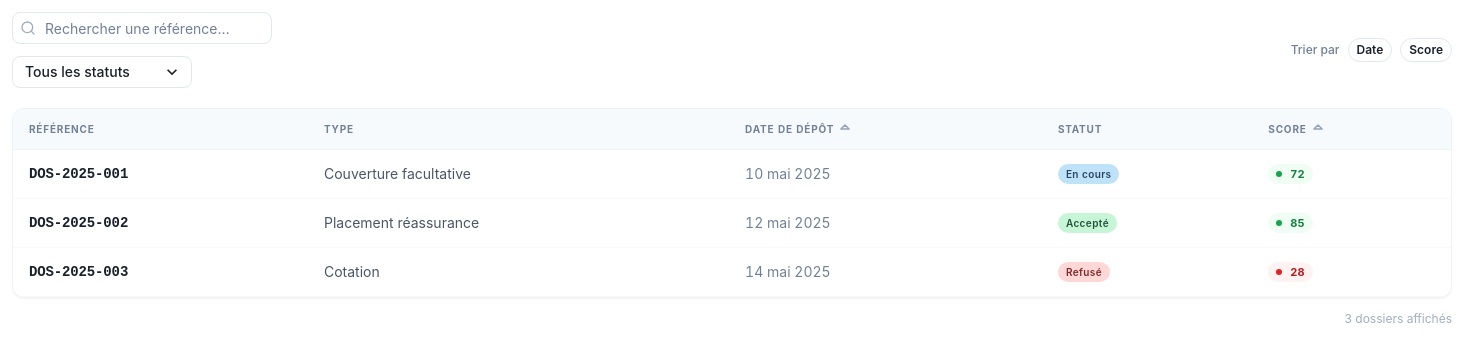
DossierList › shows empty state when no dossiers match the filter
This screenshot has width=1464, height=340.
Expected: the text "DOS-2025-001" is shown, [29,166,128,182]
Select "En attente" in the dropdown at (102, 72), box [12,56,192,88]
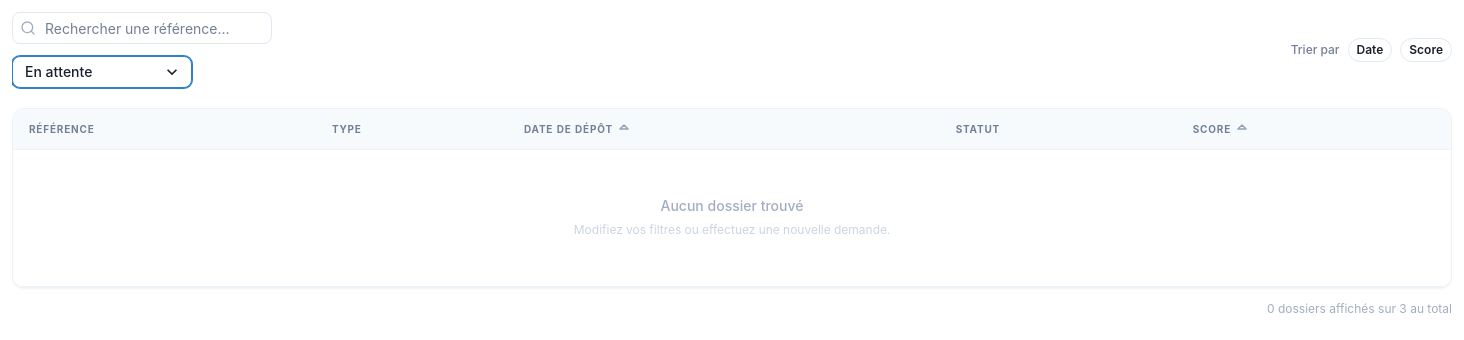
Expected: the text "Aucun dossier trouvé" is shown, [660,198,804,214]
